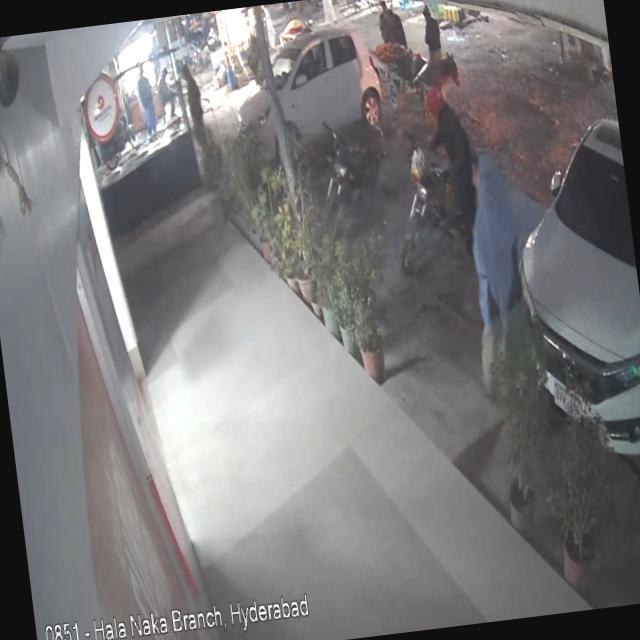Car: (478, 101, 640, 478), (208, 15, 396, 156)
Motorcycle: (381, 116, 505, 286), (304, 104, 401, 234)
